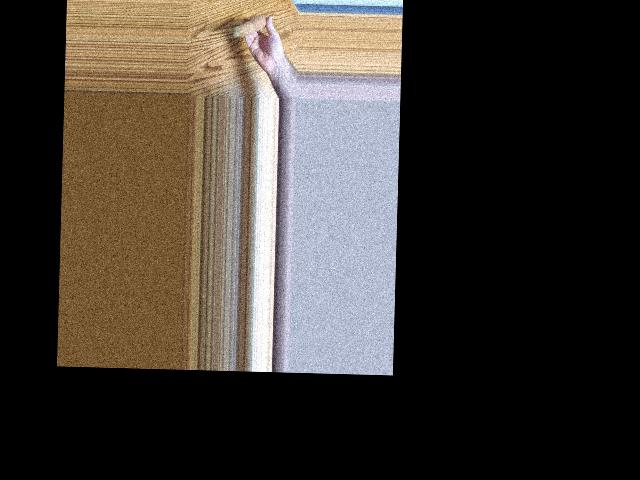sweet_potato: (232, 14, 269, 40)
